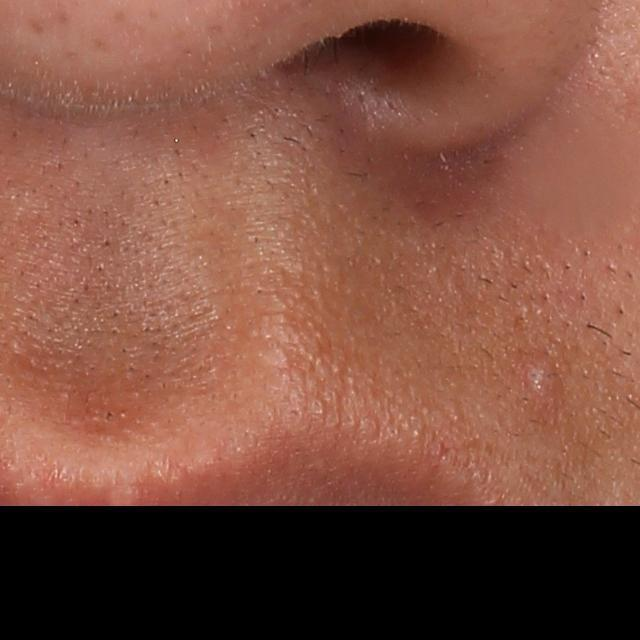papule: (524, 355, 560, 401)
